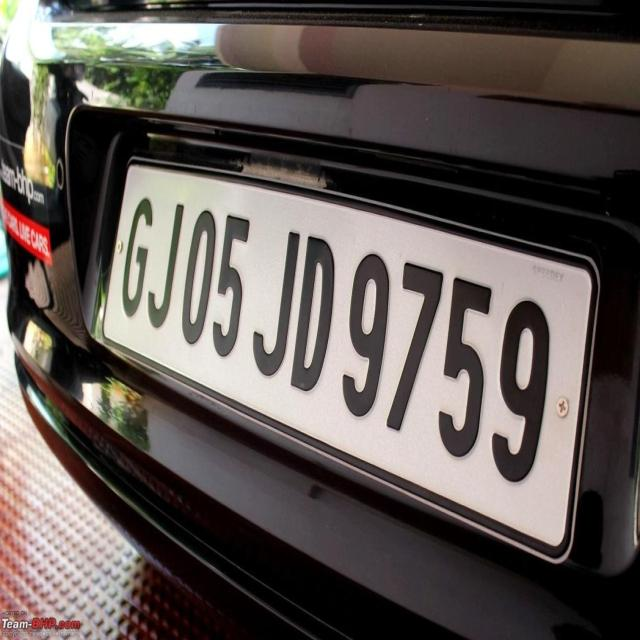number_plate: (96, 158, 588, 511)
